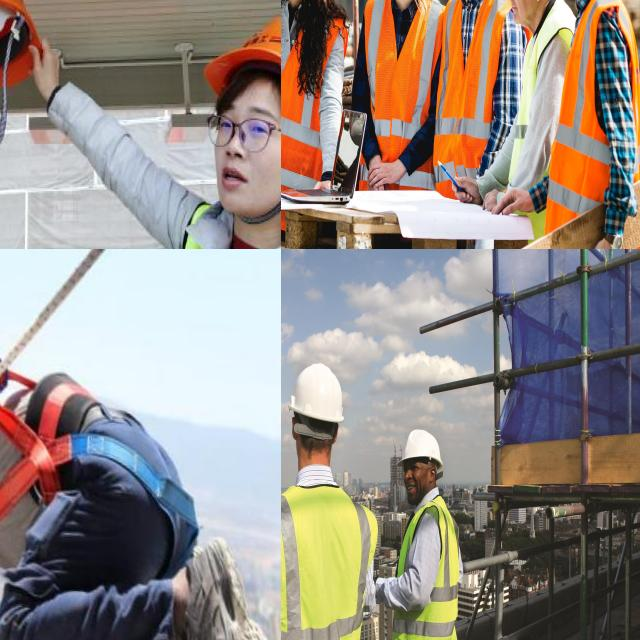Harness: (0, 371, 200, 577)
No_Ear-Protection: (427, 463, 438, 485)
No_Glasses: (402, 460, 422, 477)
face_nomask: (207, 87, 281, 212), (502, 0, 539, 27)
glasses: (204, 112, 276, 158)
hand_noglove: (451, 170, 480, 216), (375, 151, 405, 193), (498, 193, 530, 224), (578, 234, 620, 249)
head_helmet: (203, 18, 281, 131), (289, 361, 344, 426), (0, 0, 37, 80), (395, 429, 444, 469)
person: (147, 30, 281, 249), (281, 380, 377, 640), (550, 0, 640, 249), (383, 432, 468, 640), (350, 0, 435, 191), (436, 0, 508, 200), (281, 0, 341, 201), (505, 0, 558, 182)
vest: (545, 0, 640, 249), (281, 482, 374, 640), (371, 0, 443, 192), (438, 0, 506, 192), (517, 0, 577, 194), (390, 497, 464, 640), (281, 0, 328, 189)
